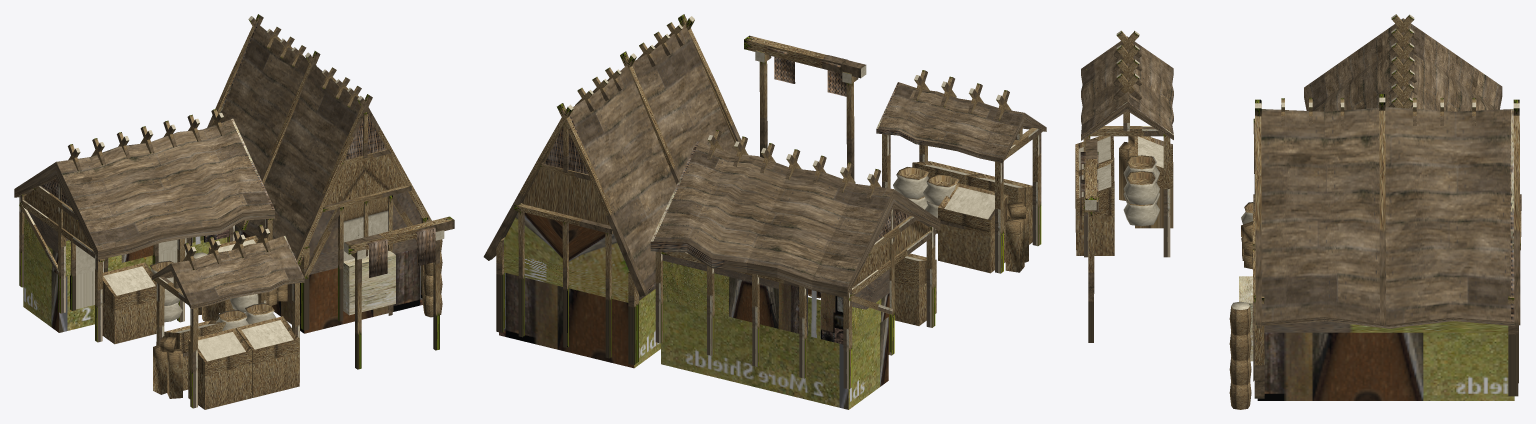
Rendered from market.dae.
The picture shows the model from 3 angles, left to right: view 1: azimuth 30°, elevation 25°; view 2: azimuth 150°, elevation 25°; view 3: azimuth 270°, elevation 25°; orthographic projection. The views are drawn at different scales.
Visible parts, largest first — view 1: market; view 2: market; view 3: market.
Boxes of the visible parts, left/top/right/bottom form: market: left=14, top=14, right=454, bottom=409; market: left=483, top=14, right=1046, bottom=409; market: left=1075, top=14, right=1521, bottom=409.
Bounding box in the file's own units: 29.29 × 29.1 × 19.81.
